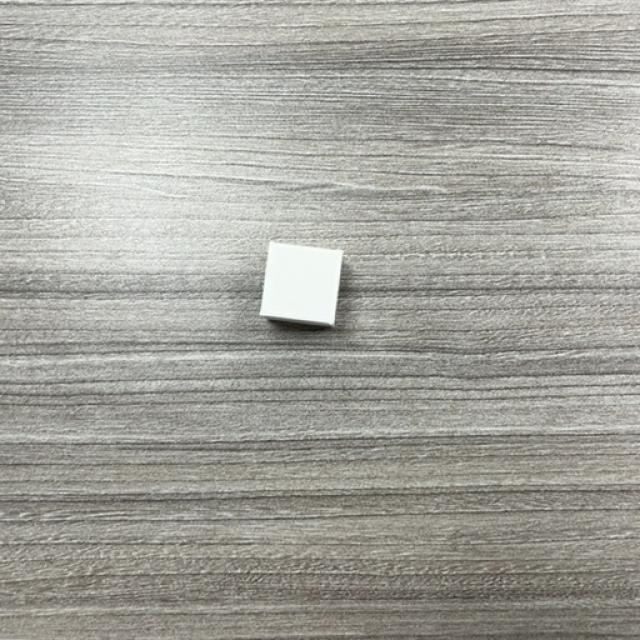Blanco: (259, 241, 342, 331)
